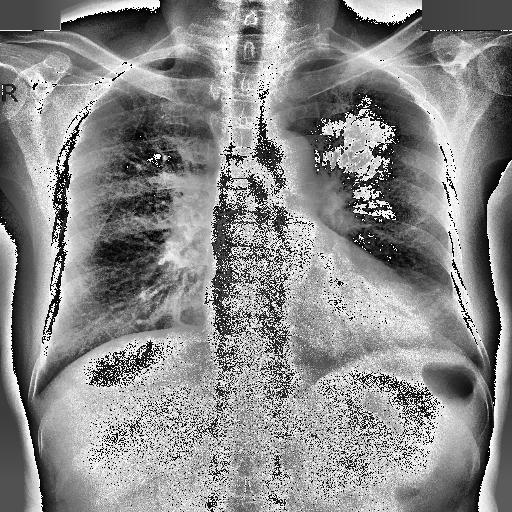0- Aortic enlargement: (236, 128, 316, 179)
3- Cardiomegaly: (199, 277, 433, 352), (202, 278, 448, 346), (202, 294, 442, 340)
7- Lung Opacity: (423, 285, 476, 359)
9- Other lesion: (423, 285, 476, 359)
